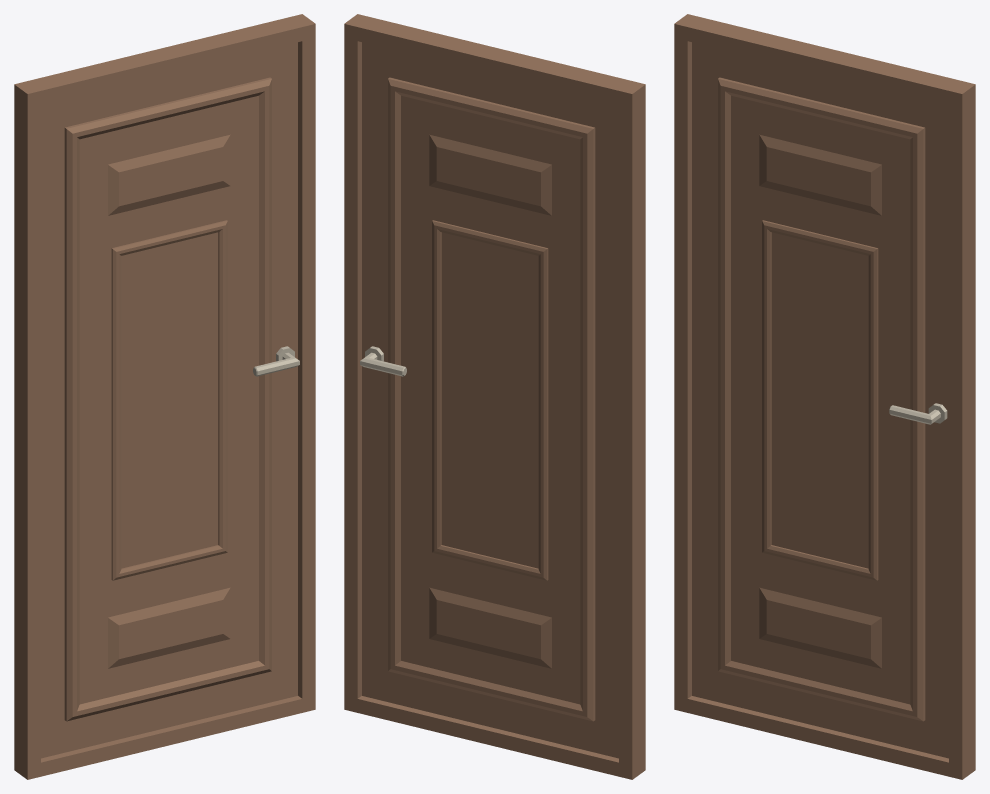
File: Mesh_Door_C05.fbx
3 renders of one model, left to right at view 1: azimuth 30°, elevation 25°; view 2: azimuth 150°, elevation 25°; view 3: azimuth 330°, elevation 25°, orthographic.
Parts seen in each view (by area): view 1: Mesh_Door_C05; view 2: Mesh_Door_C05; view 3: Mesh_Door_C05.
Boxes of the visible parts, x1,y1,x2,y2 form: Mesh_Door_C05: (14,14,315,779); Mesh_Door_C05: (344,14,645,779); Mesh_Door_C05: (674,14,975,779).
Size of the model in its own units: 0.9 by 2.05 by 0.1524.
